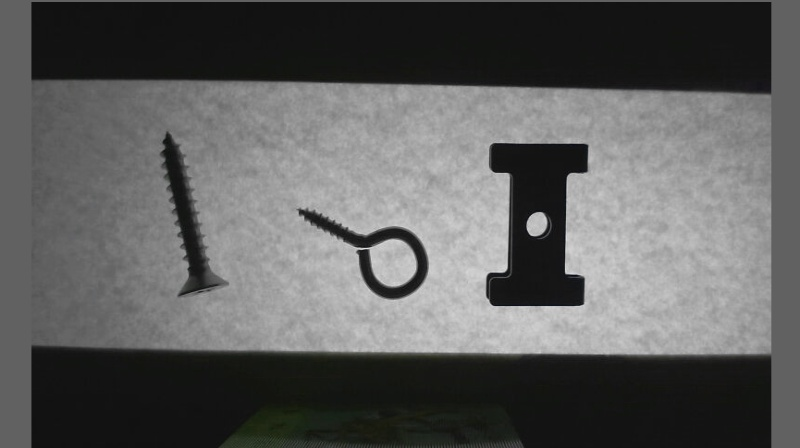O001: (294, 201, 430, 301)
O002: (484, 140, 592, 309)
S001: (156, 127, 233, 298)
